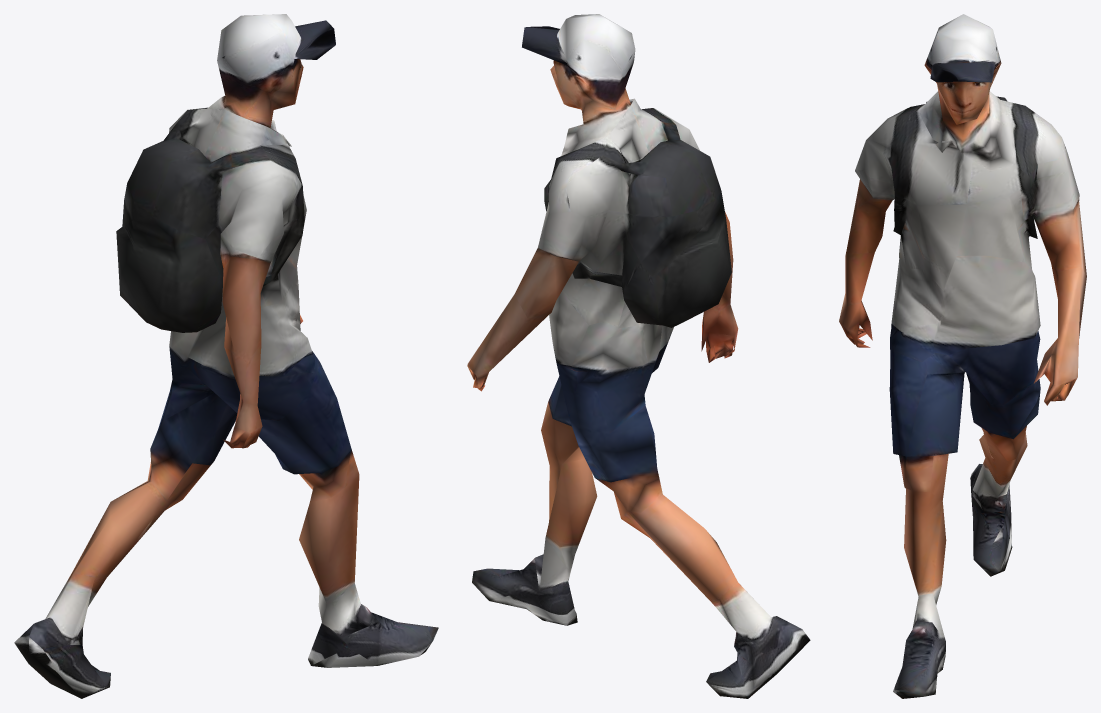
The model's file is besucher_mann.glb.
3 renders of one model, left to right at view 1: azimuth 30°, elevation 25°; view 2: azimuth 150°, elevation 25°; view 3: azimuth 270°, elevation 25°, orthographic. The views are drawn at different scales.
Parts seen in each view (by area): view 1: tripo_node_d2755e42-13c0-4bc5-ad3d-84d8d1361a09; view 2: tripo_node_d2755e42-13c0-4bc5-ad3d-84d8d1361a09; view 3: tripo_node_d2755e42-13c0-4bc5-ad3d-84d8d1361a09.
Part boxes in pixels (x1,y1,x2,y2): tripo_node_d2755e42-13c0-4bc5-ad3d-84d8d1361a09: (14,14,438,698); tripo_node_d2755e42-13c0-4bc5-ad3d-84d8d1361a09: (467,14,810,698); tripo_node_d2755e42-13c0-4bc5-ad3d-84d8d1361a09: (839,14,1086,698).
Size of the model in its own units: 0.6097 by 0.9994 by 0.3614.
1 material, 1 textured.
